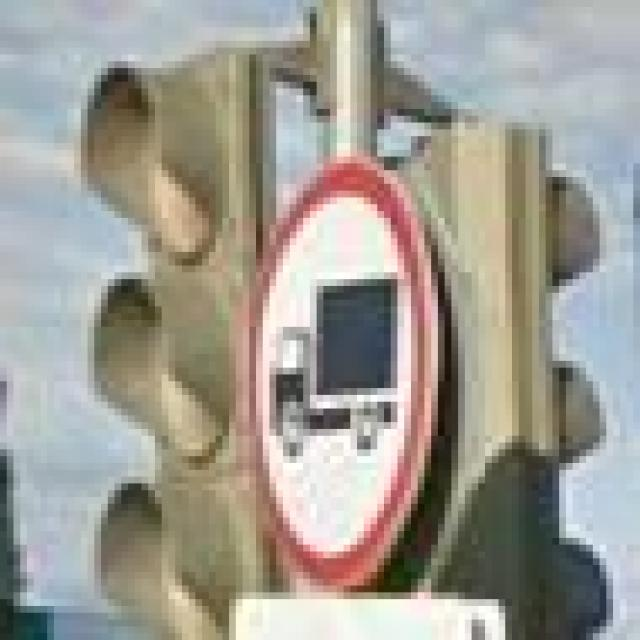traffic_sign: (236, 157, 444, 586)
